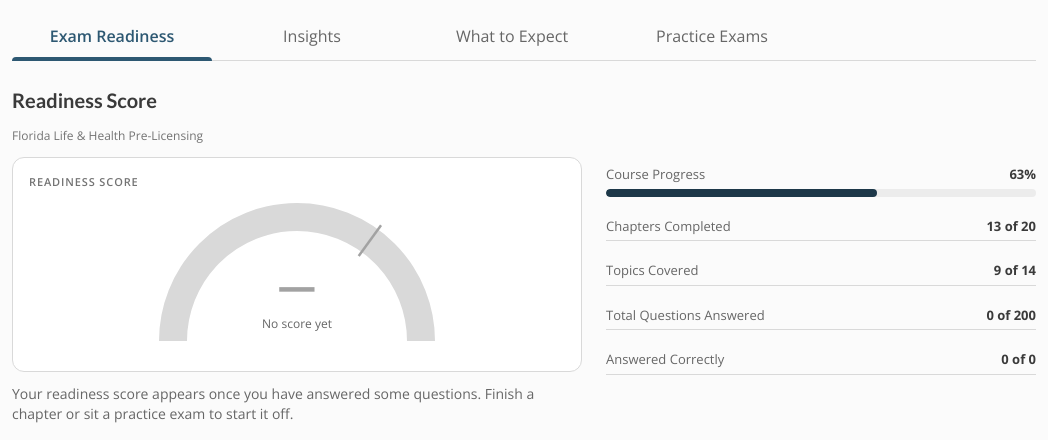
Test case: the Readiness demo states › treats Not Started as no score, not a zero
Expected: the text "—" is shown, [275,258,319,310]
Expected: the text "No score yet" is shown, [262,314,332,332]
Click the tab "Insights". click: (312, 36)
box: [212,12,412,60]
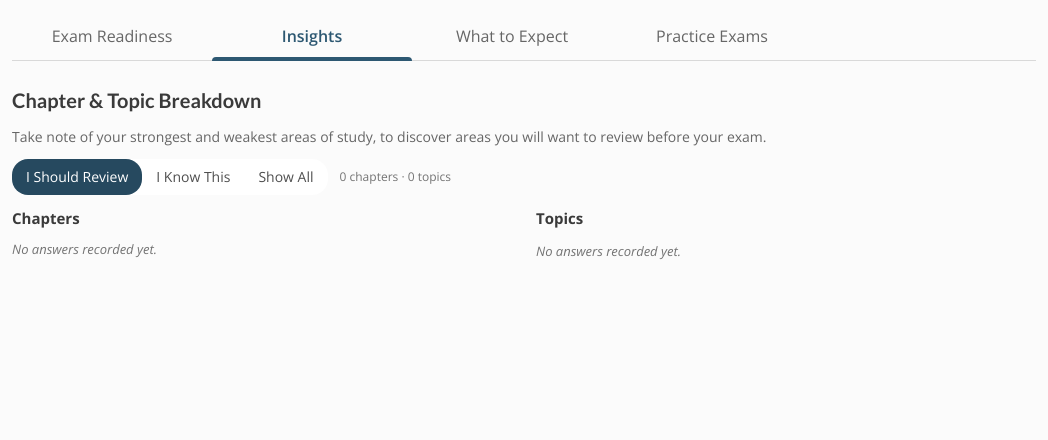
Expected: the text "No answers recorded yet." is shown 2 times, [12,240,157,258]; [536,242,681,260]
Click the tab "Practice Exams". click: (712, 36)
box: [612,12,812,60]
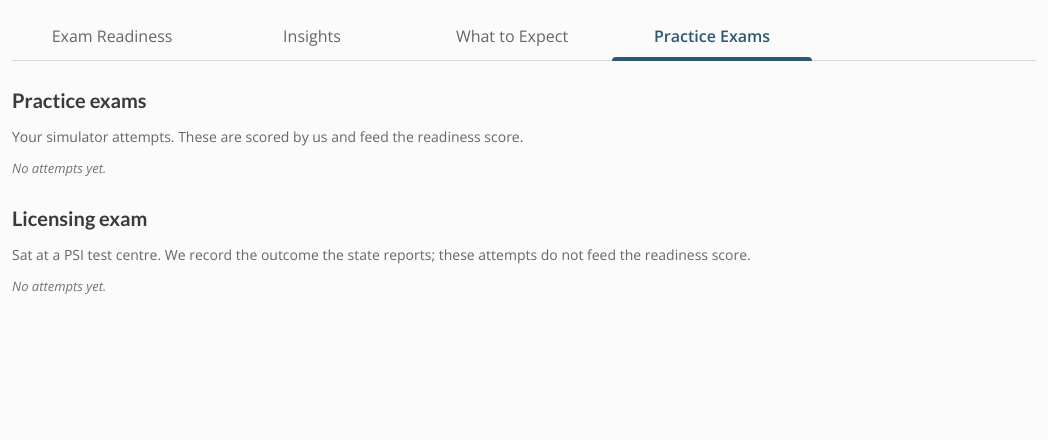
Expected: the text "No attempts yet." is shown 2 times, [12,159,106,177]; [12,276,106,294]
